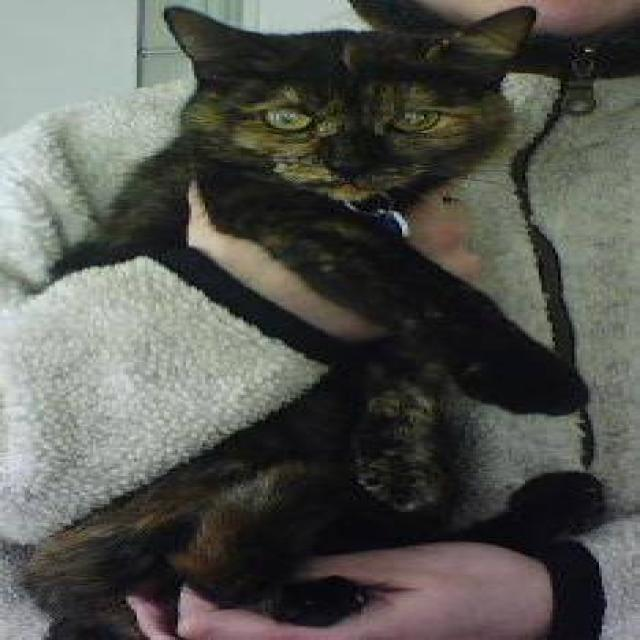cat: (8, 1, 604, 638)
